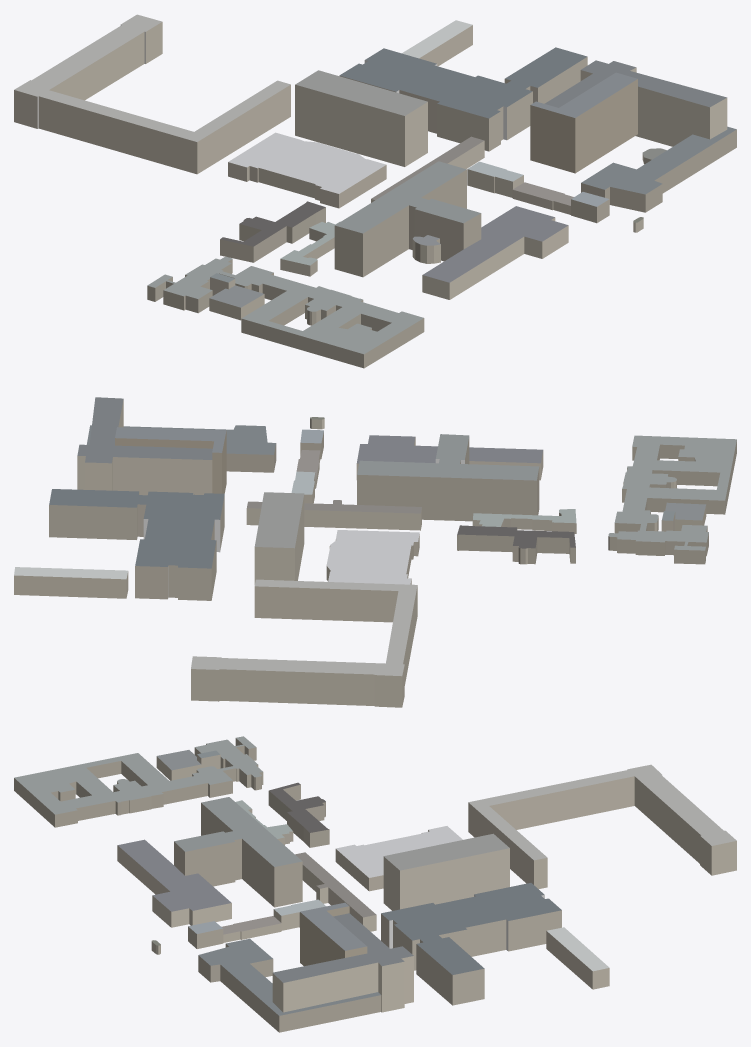
3 views of the same model, one above another, from view 1: azimuth 30°, elevation 25°; view 2: azimuth 150°, elevation 25°; view 3: azimuth 270°, elevation 25° (orthographic). The views are drawn at different scales.
Visible parts, largest first — view 1: tuile; view 2: tuile; view 3: tuile.
Boxes of the visible parts, <box> form: tuile: <box>14,14,736,368</box>; tuile: <box>14,397,736,707</box>; tuile: <box>14,736,736,1032</box>.
Size of the model in its own units: 310 by 28.21 by 346.
